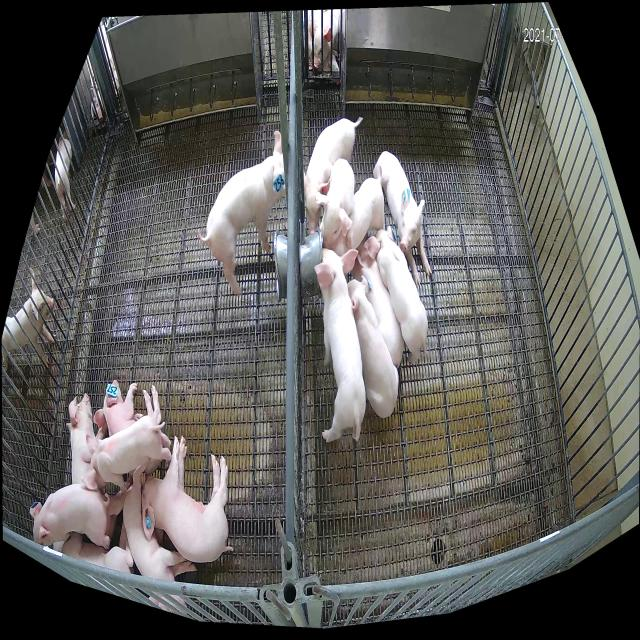pig: (207, 130, 287, 295), (142, 434, 233, 564), (123, 463, 198, 616), (314, 248, 366, 444), (364, 226, 428, 363), (374, 151, 432, 286), (347, 275, 399, 420), (81, 415, 172, 495), (352, 233, 404, 367), (303, 117, 362, 234), (30, 484, 110, 550), (331, 177, 385, 257), (53, 522, 135, 574), (315, 158, 355, 247), (94, 381, 145, 435), (66, 393, 93, 484)
